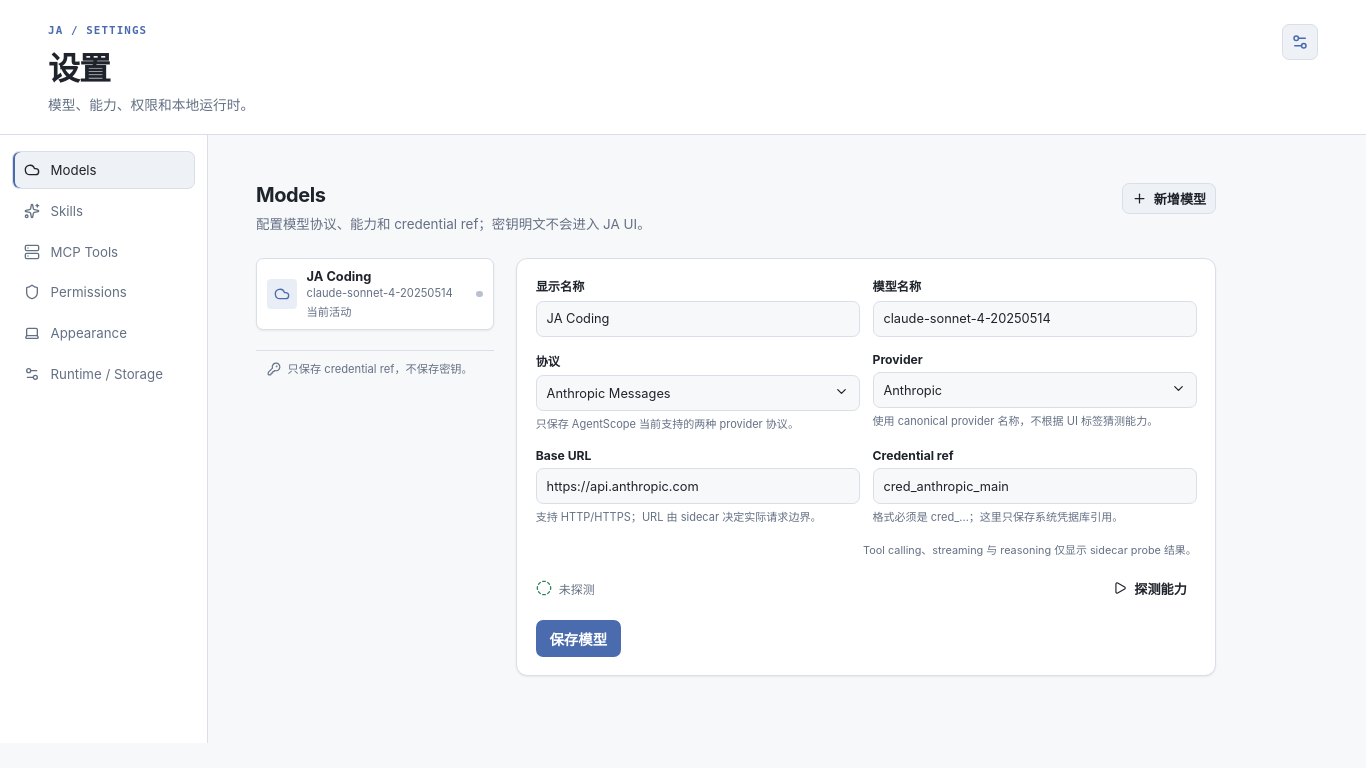
Test: JA Settings feature › surfaces skill toggle failures and retains the previous enabled state
Click the tab "Skills".
click(104, 211)  # box [12,192,195,230]
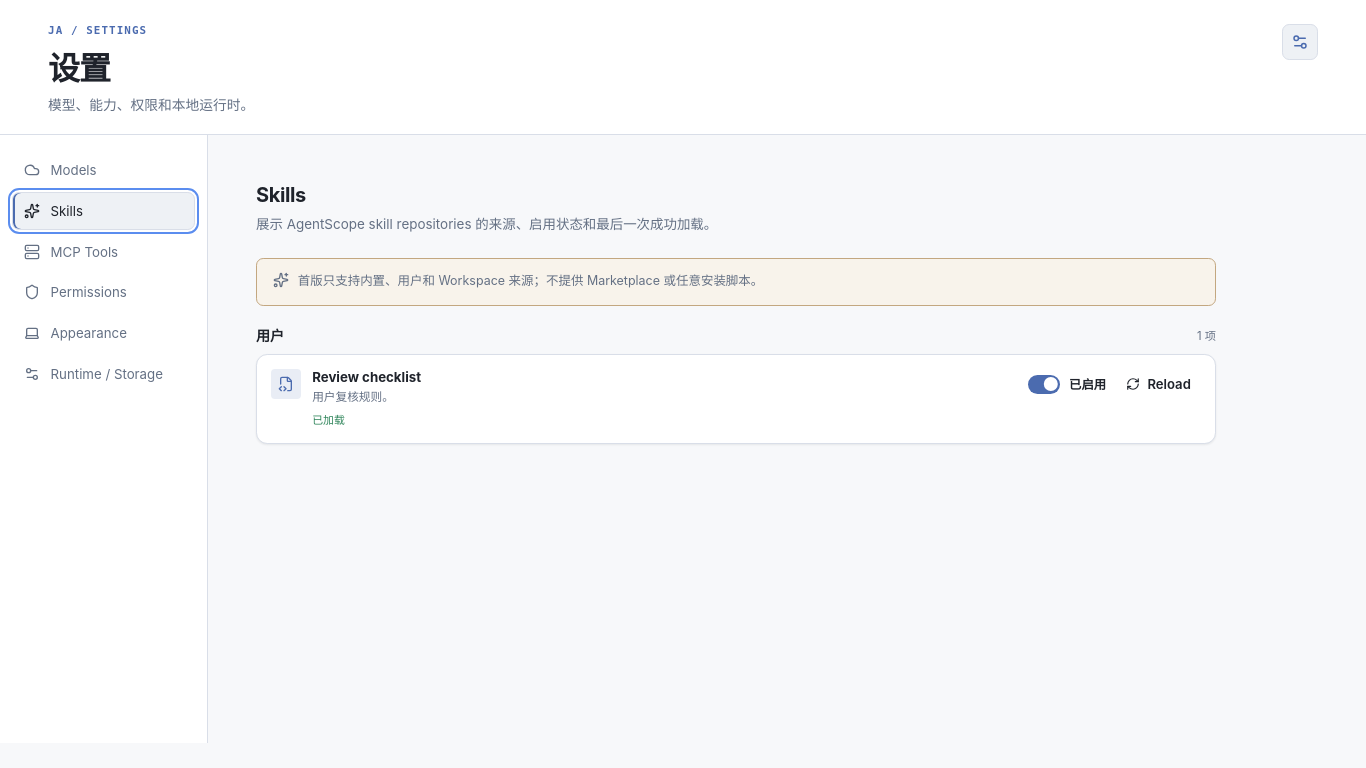
Now the element "Review checklist" is shown, box [256,354,1216,444]
Click the switch named "已启用".
click(1044, 384)  # box [1028,374,1060,394]
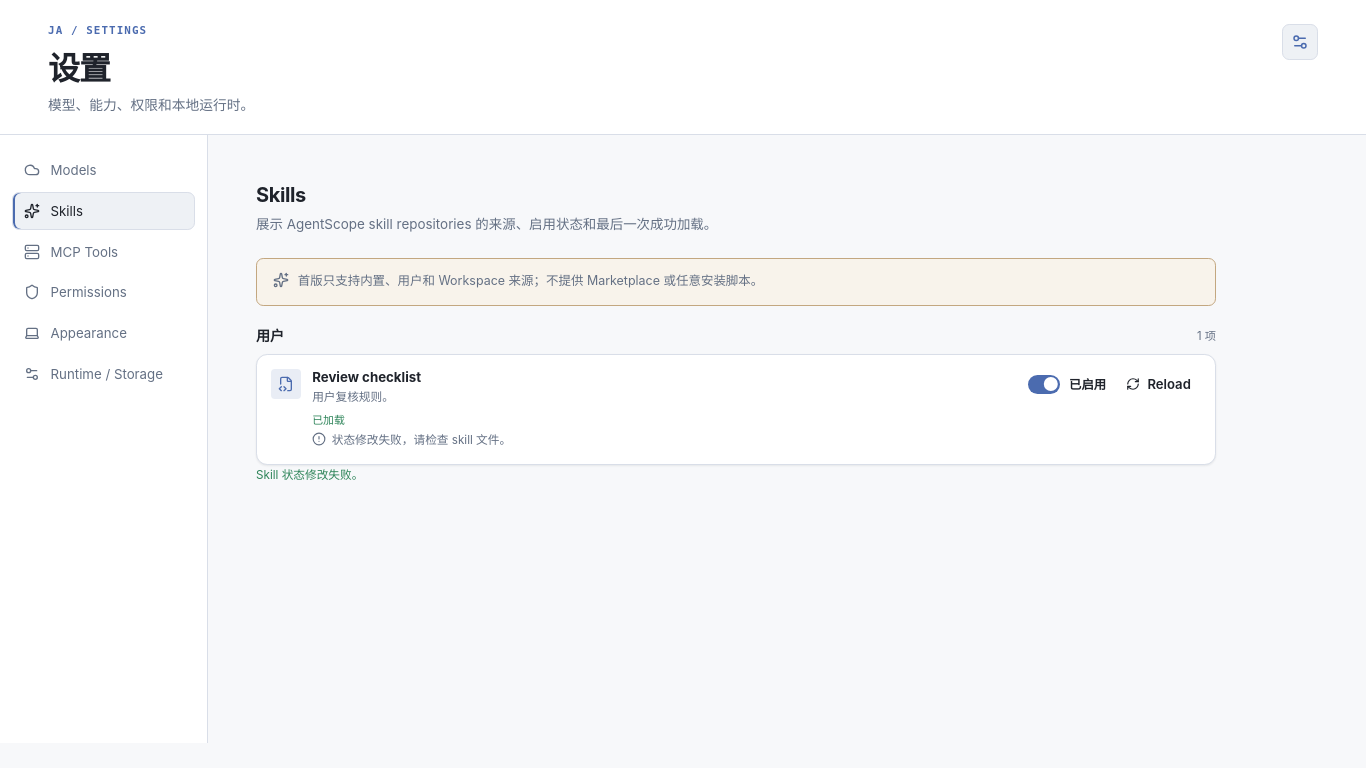
Now the switch named "已启用" is checked, box [1028,374,1060,394]
Now the text "Skill 状态修改失败。" is shown, box [256,468,363,482]
